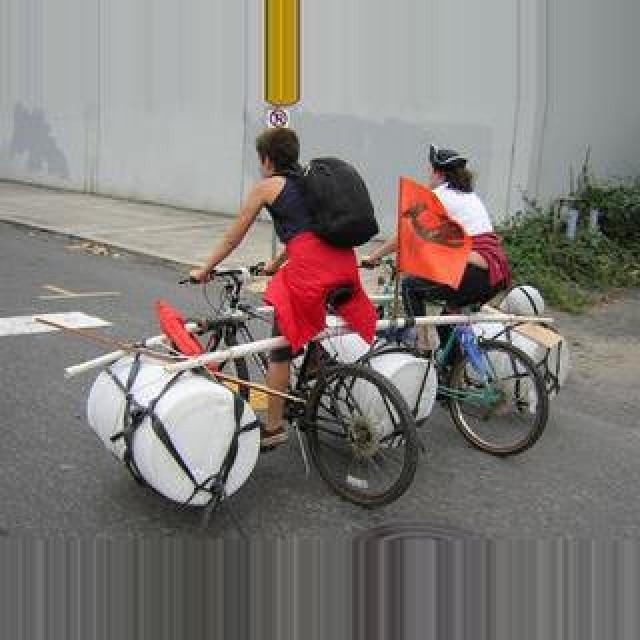MC-Bike: (182, 130, 384, 452), (404, 146, 514, 410), (430, 148, 512, 304)
Person: (95, 272, 423, 518), (336, 273, 550, 459)
